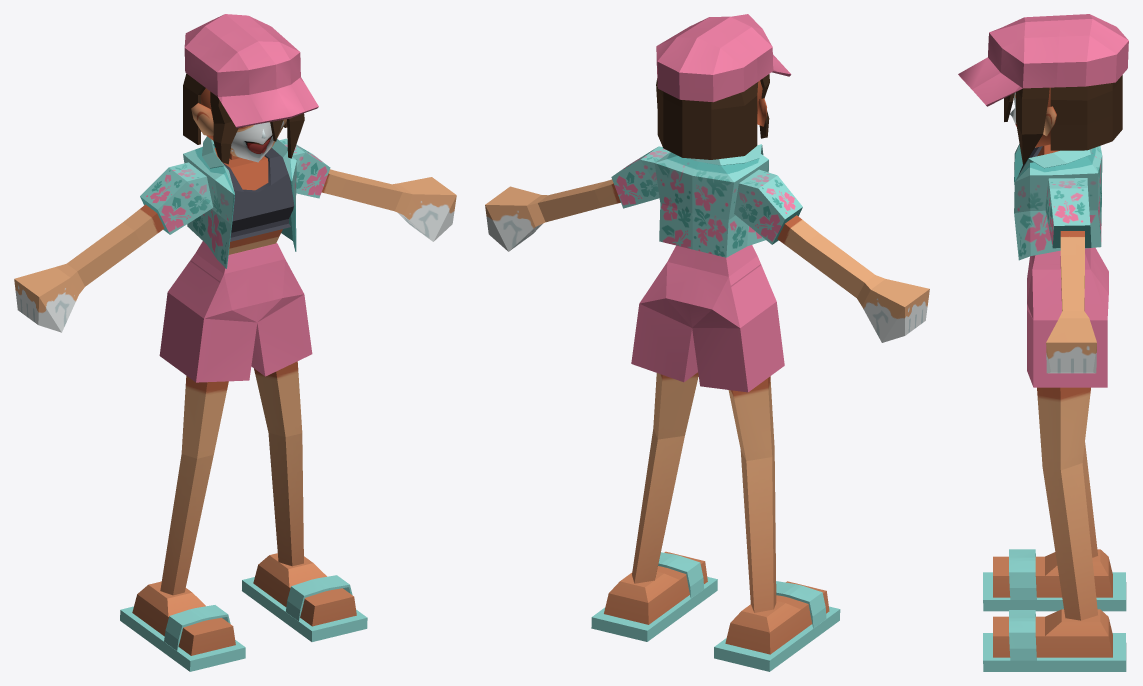
File: Melee Zombie Female fix bra.glb
3 views of the same model, side by side, from view 1: azimuth 30°, elevation 25°; view 2: azimuth 150°, elevation 25°; view 3: azimuth 270°, elevation 25° (orthographic).
Visible parts, largest first — view 1: Body, Head; view 2: Body, Head; view 3: Body, Head.
Boxes of the visible parts, x1=… form: Body: x1=14, y1=136, x2=456, y2=671; Head: x1=183, y1=14, x2=318, y2=164; Body: x1=485, y1=144, x2=929, y2=671; Head: x1=656, y1=14, x2=791, y2=159; Body: x1=983, y1=144, x2=1126, y2=671; Head: x1=958, y1=14, x2=1128, y2=164.
Bounding box in the file's own units: 1.28 × 1.75 × 0.4439.
Materials: 8 (8 with a texture image).
